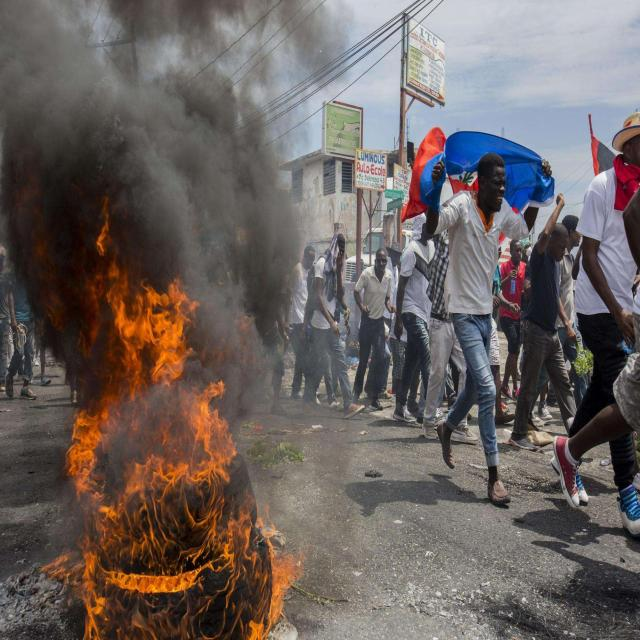fire: (43, 260, 301, 640)
